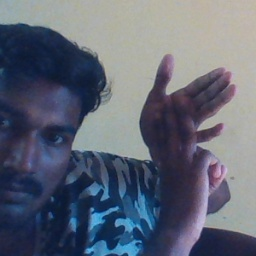M: (132, 49, 244, 208)
